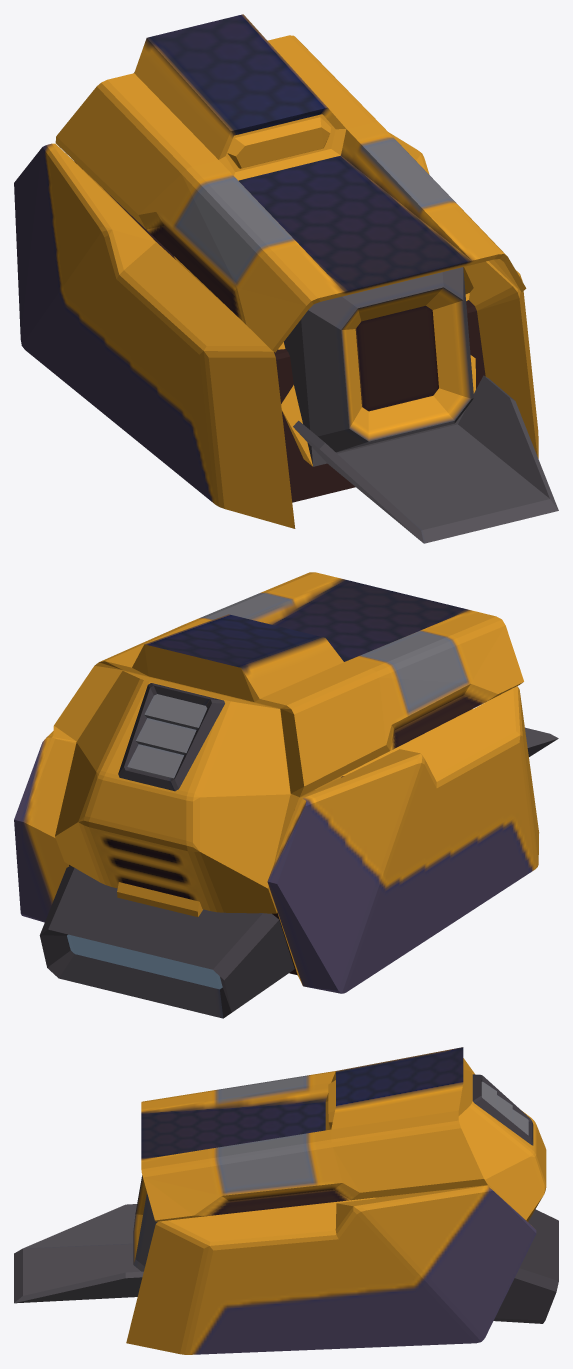
Rendered from Chariot03_danqiping.FBX.
The picture shows the model from 3 angles, top to bottom: view 1: azimuth 30°, elevation 25°; view 2: azimuth 150°, elevation 25°; view 3: azimuth 270°, elevation 25°; orthographic projection. The views are drawn at different scales.
Visible parts, largest first — view 1: Chariot03_danqiping; view 2: Chariot03_danqiping; view 3: Chariot03_danqiping.
Boxes of the visible parts, x1,y1,x2,y2 form: Chariot03_danqiping: (14,14,558,543); Chariot03_danqiping: (14,572,558,1018); Chariot03_danqiping: (14,1047,558,1354).
Size of the model in its own units: 0.622 by 0.5749 by 1.21.
